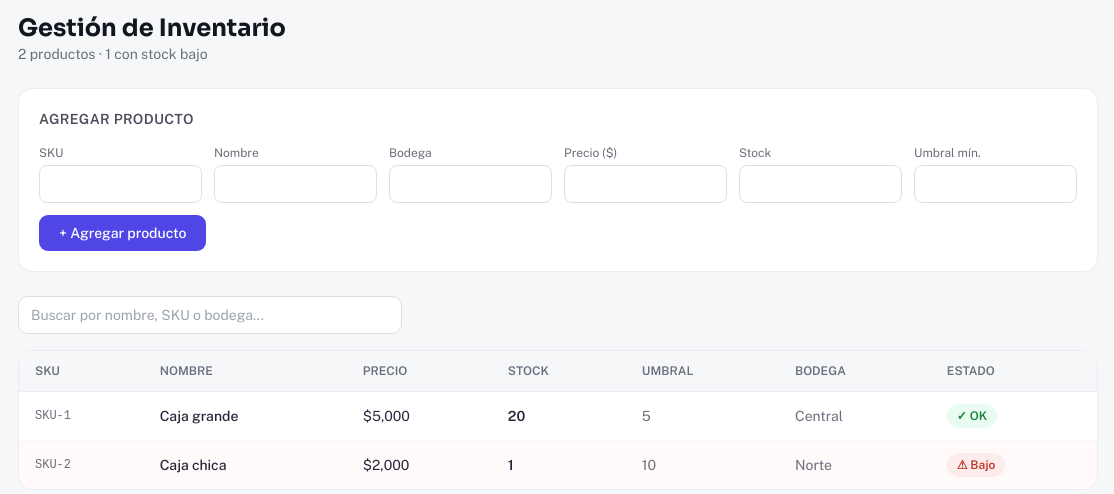
Inventario › shows a no-results message when the search matches nothing
The width and height of the screenshot is (1114, 494).
Expected: the text "Caja grande" is shown, [144, 392, 347, 440]
Type "no-existe" into the field with placeholder "Buscar por nombre, SKU o bodega...".
click(210, 315); type("no-existe")  # box [18, 296, 402, 334]
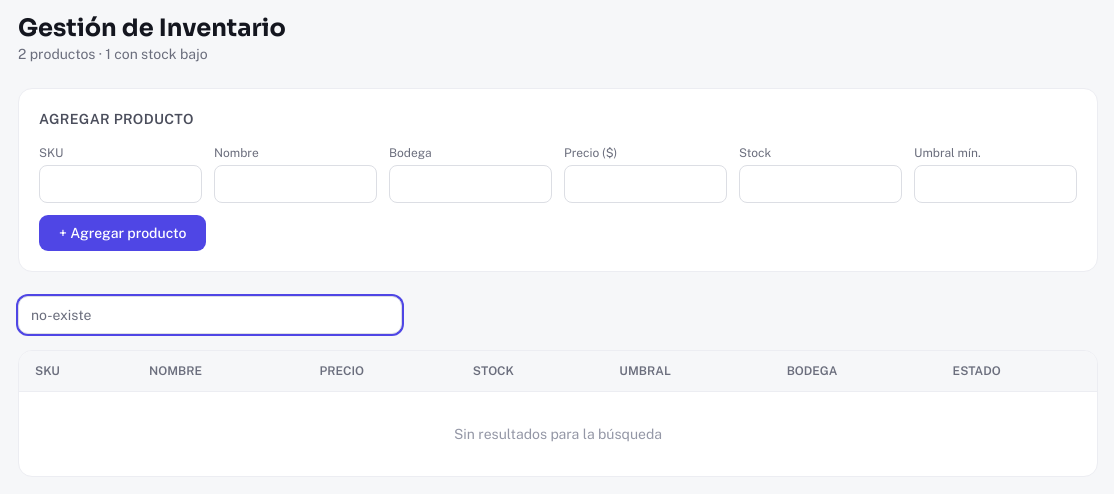
Now the text "Sin resultados para la búsqueda" is shown, box [19, 392, 1097, 476]
